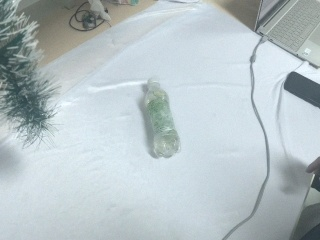bottle: (142, 79, 180, 159)
phone: (282, 67, 320, 119)
